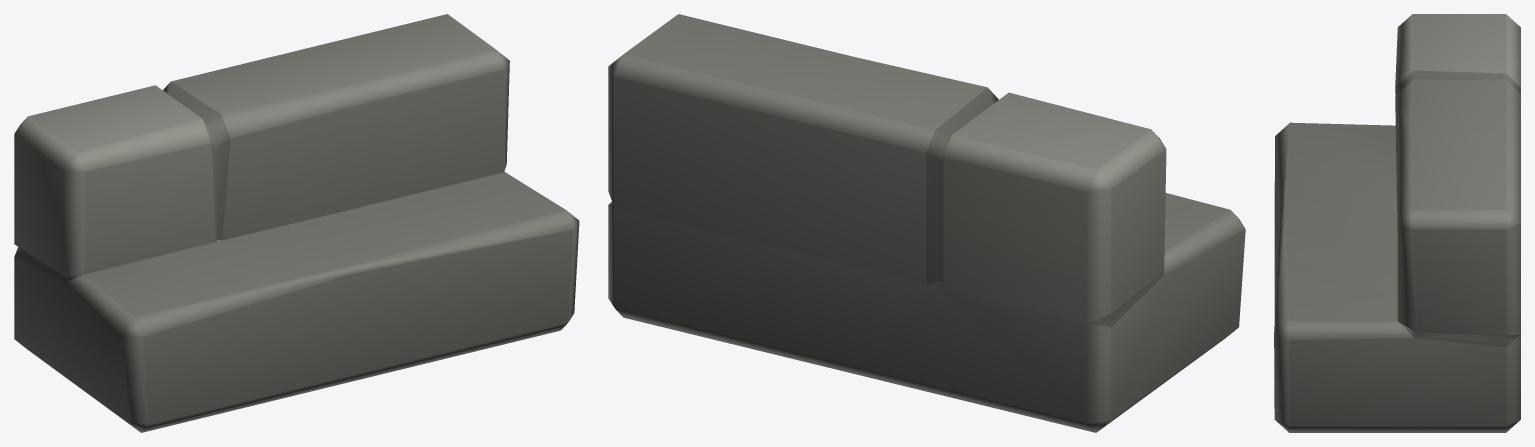
File: stairs_half_2_shade_2.fbx
3 renders of one model, left to right at view 1: azimuth 30°, elevation 25°; view 2: azimuth 150°, elevation 25°; view 3: azimuth 270°, elevation 25°, orthographic. The views are drawn at different scales.
Parts seen in each view (by area): view 1: stairs_half_2_shade_2; view 2: stairs_half_2_shade_2; view 3: stairs_half_2_shade_2.
Part boxes in pixels (x1,y1,x2,y2): stairs_half_2_shade_2: (14, 14, 579, 432); stairs_half_2_shade_2: (608, 14, 1245, 432); stairs_half_2_shade_2: (1274, 14, 1520, 432).
Size of the model in its own units: 102 by 50.51 by 50.1.
